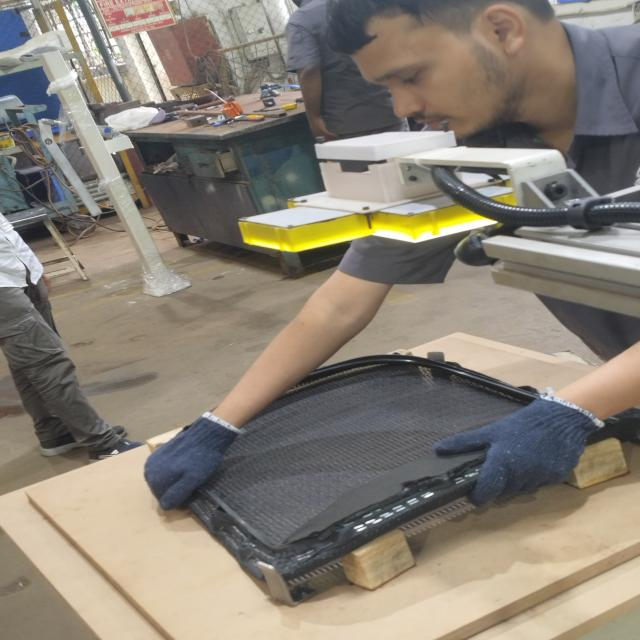Gloves-Detection: (437, 396, 616, 506), (150, 414, 240, 509)
